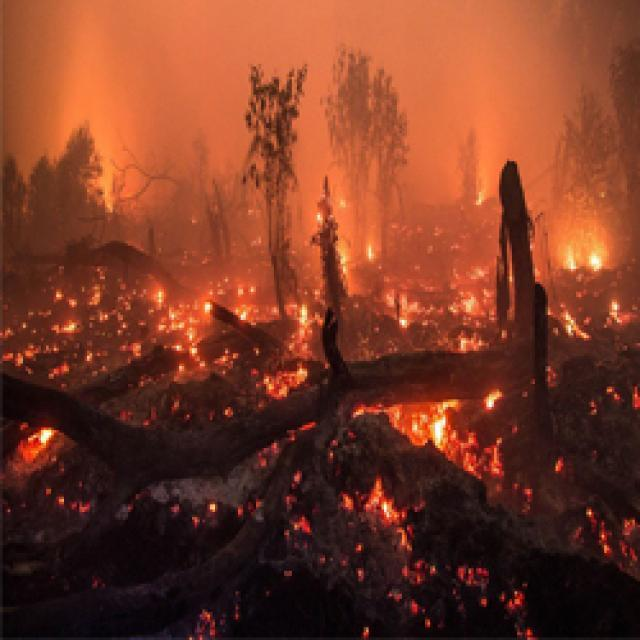Fire: (263, 423, 431, 640), (0, 254, 261, 378), (357, 381, 505, 474), (380, 252, 504, 354), (0, 394, 92, 524), (258, 282, 327, 399), (537, 274, 640, 348), (454, 557, 538, 640), (115, 388, 246, 438), (316, 190, 382, 276), (558, 501, 640, 564), (172, 492, 266, 532), (180, 596, 254, 640), (576, 370, 640, 414), (558, 234, 604, 274), (494, 480, 534, 510), (533, 452, 570, 472)
Smoke: (0, 0, 313, 223), (309, 0, 637, 189)
